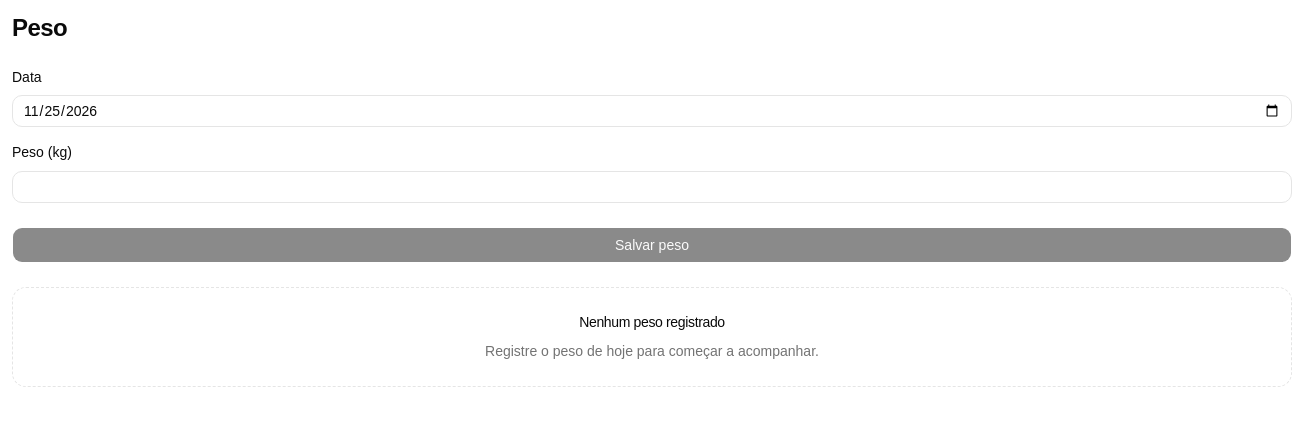
WeightPage › explains a weight with three decimals and does not send it
The width and height of the screenshot is (1304, 424).
Later steps or results of the test are not shown.
Expected: the text "Nenhum peso registrado" is shown, [579,312,725,332]
In the number field labelled "Peso (kg)": (652, 186) [12,170,1292,202], type "82.455"
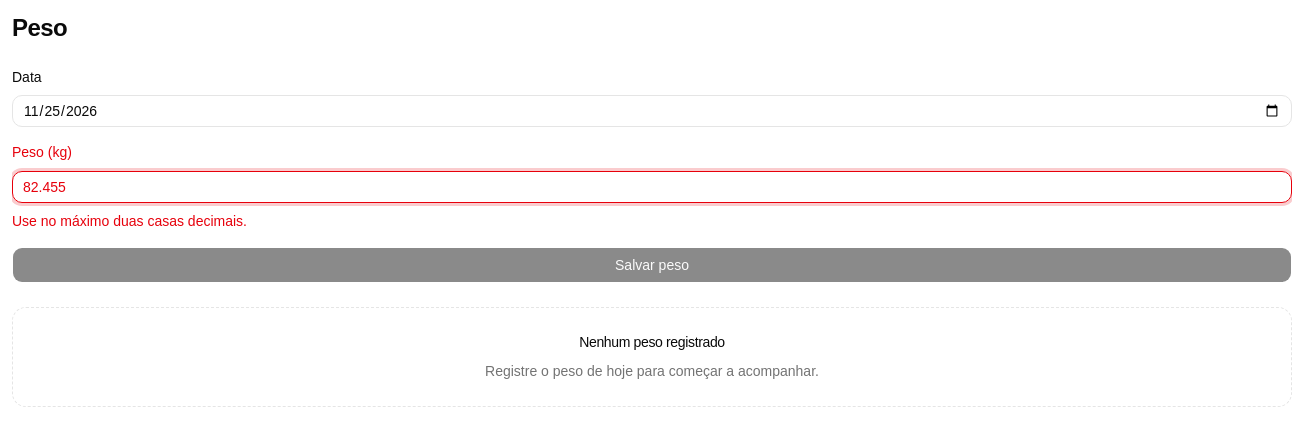
Expected: the button "Salvar peso" is disabled, [12,246,1292,282]
Expected: the text "Use no máximo duas casas decimais." is shown, [12,212,247,228]
